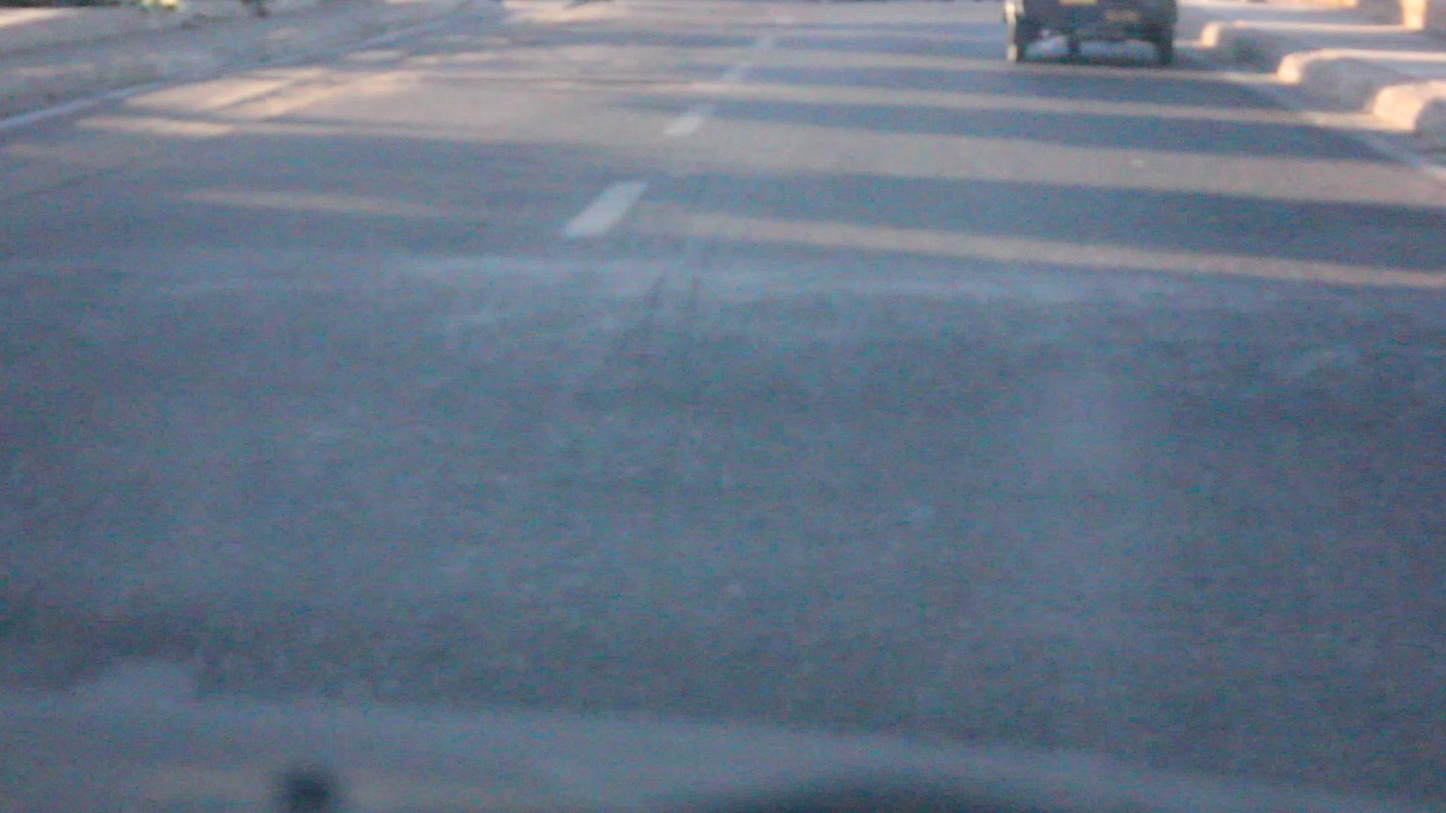Bump: (0, 201, 1446, 741)
